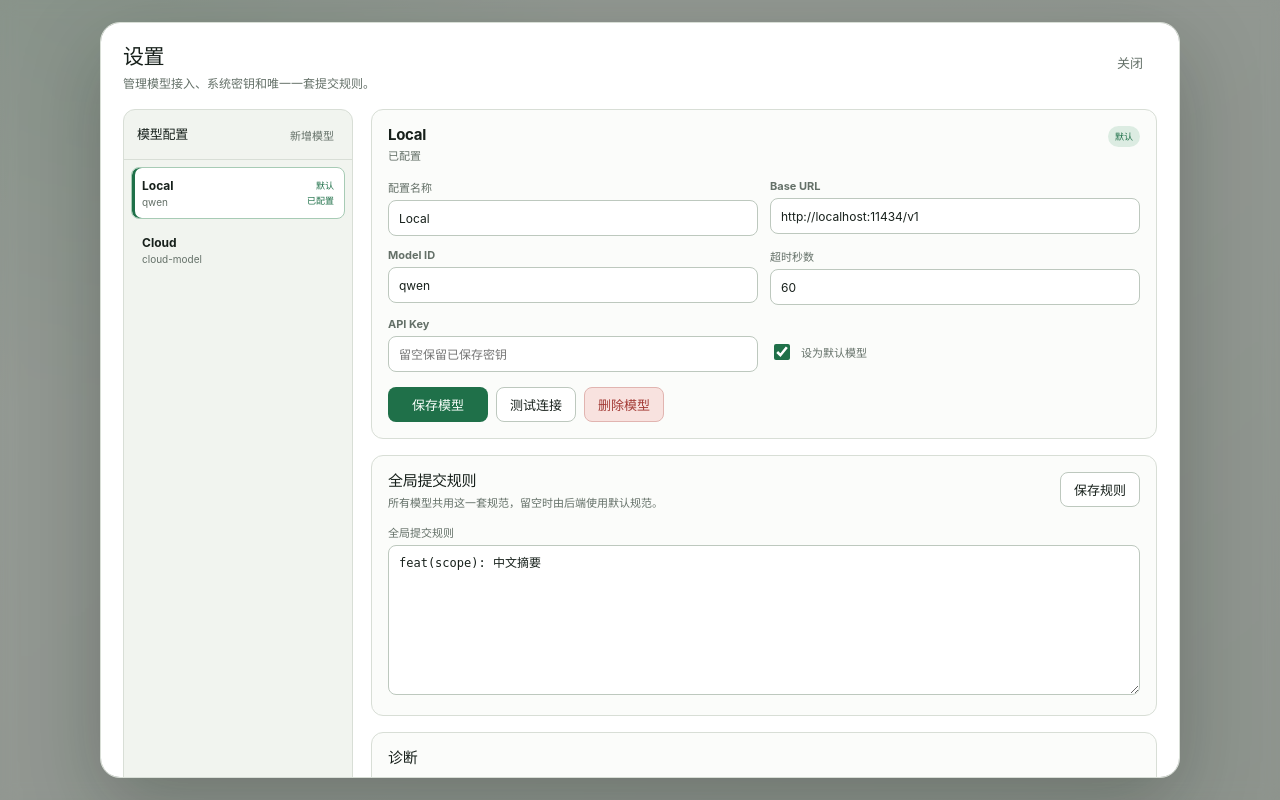
Scenario: SettingsDialog › omits a blank key when editing and clears a replacement after save
The image size is (1280, 800).
Click the button with aria-label "编辑 Local" at (238, 193), box [131, 167, 345, 219]
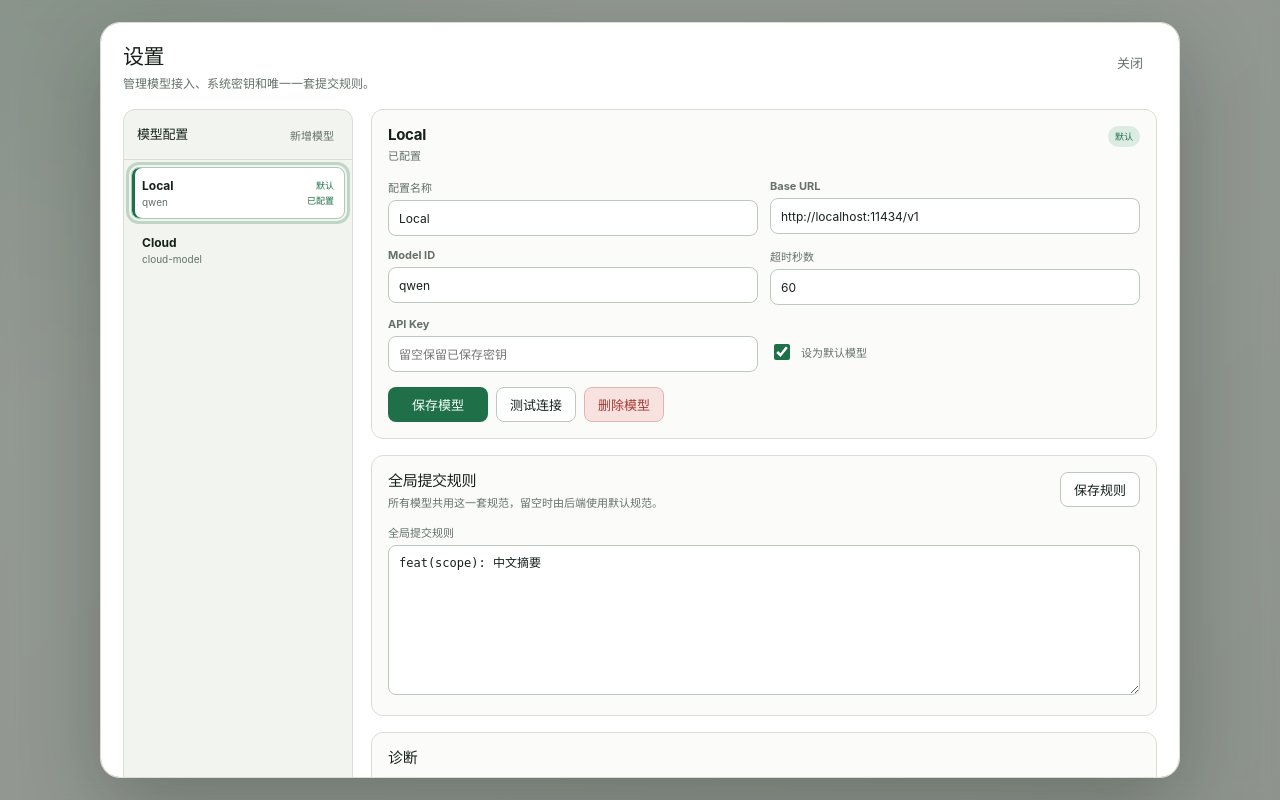
Replace the text in the field labelled "配置名称" with "Local Renamed" at (573, 218), box [388, 200, 758, 236]
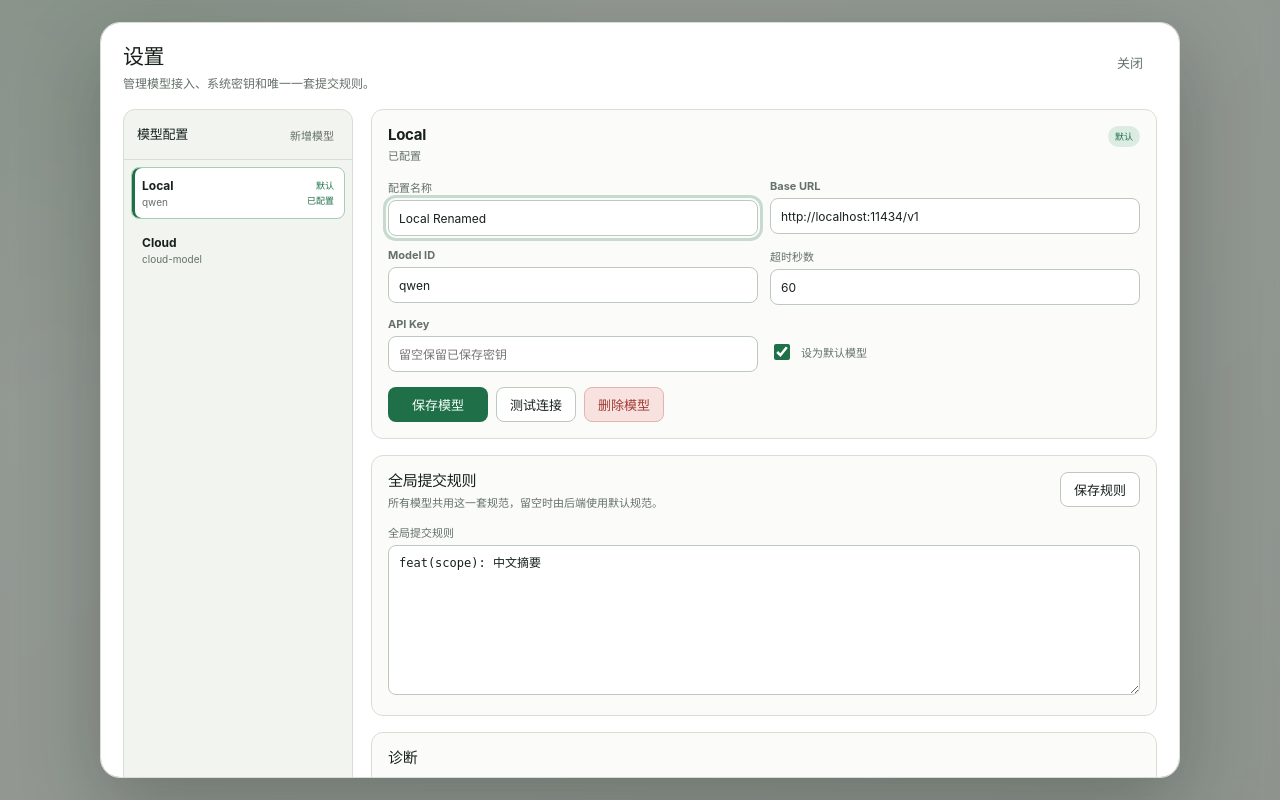
Click the button "保存模型" at (438, 405), box [388, 387, 488, 422]
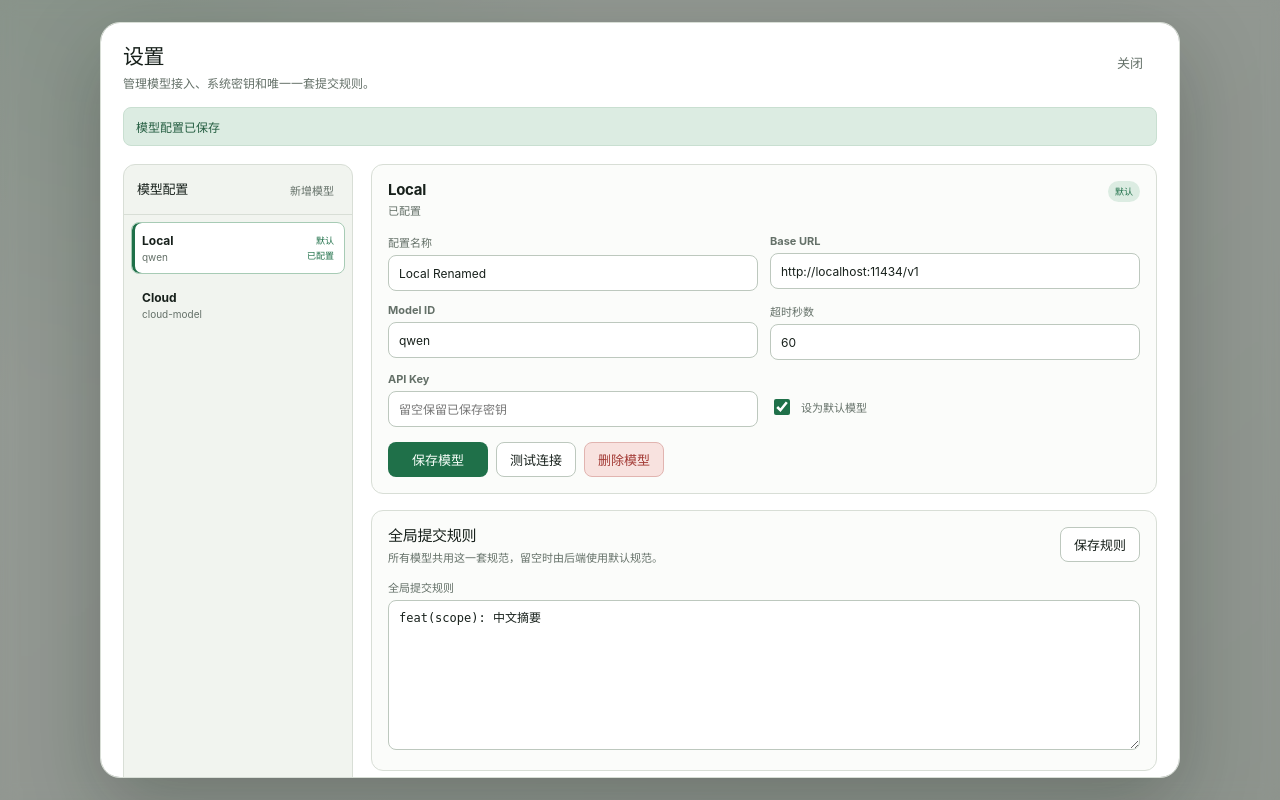
Expected: the password field labelled "API Key" is empty, [388, 391, 758, 427]
Click the button with aria-label "编辑 Cloud" at (238, 305), box [131, 279, 345, 331]
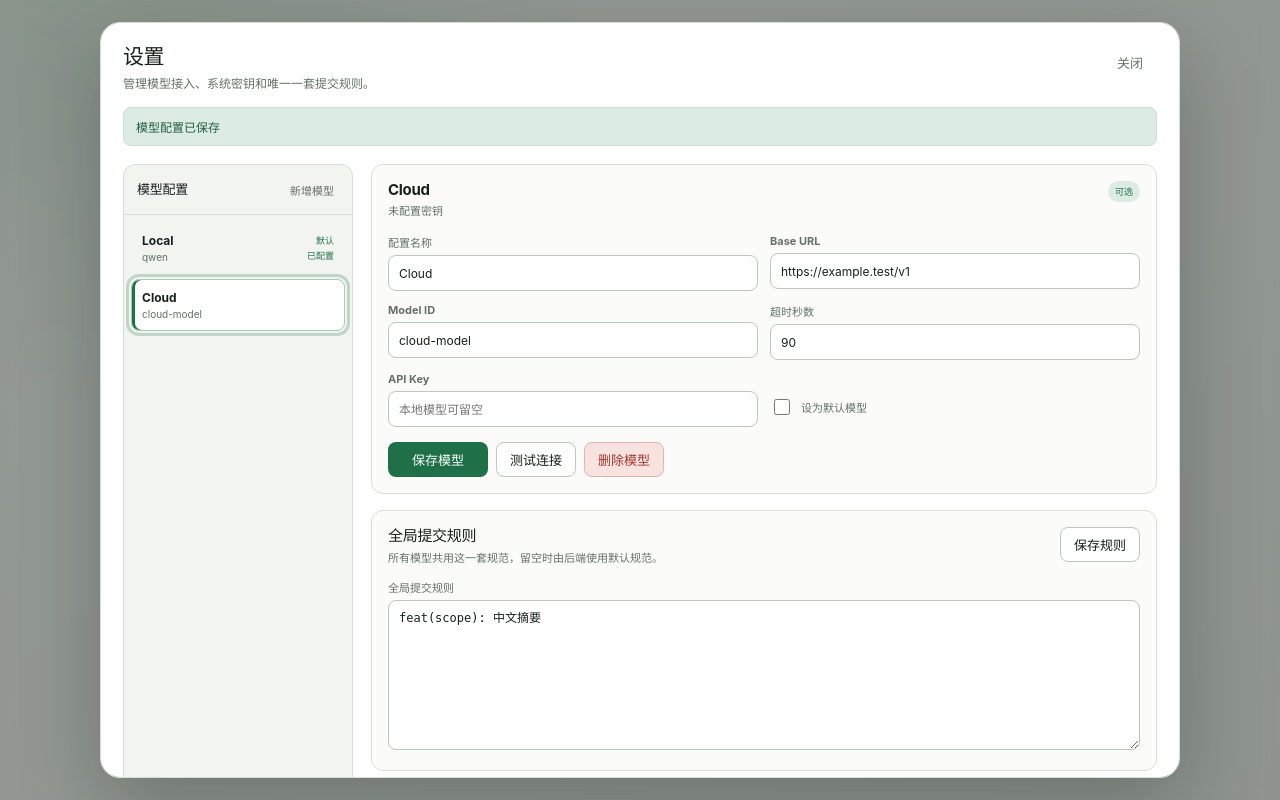
Type "replacement" into the password field labelled "API Key" at (573, 409), box [388, 391, 758, 427]
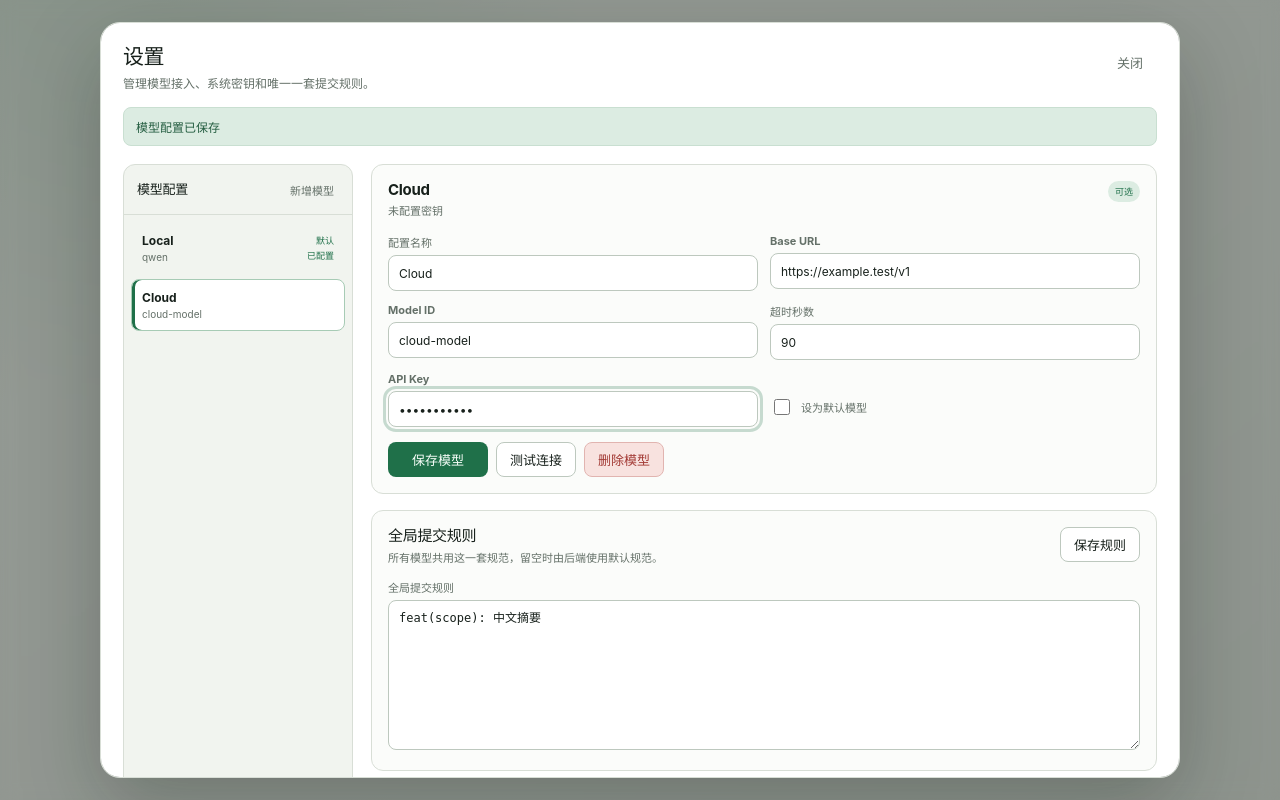
Click the button "保存模型" at (438, 460), box [388, 442, 488, 477]
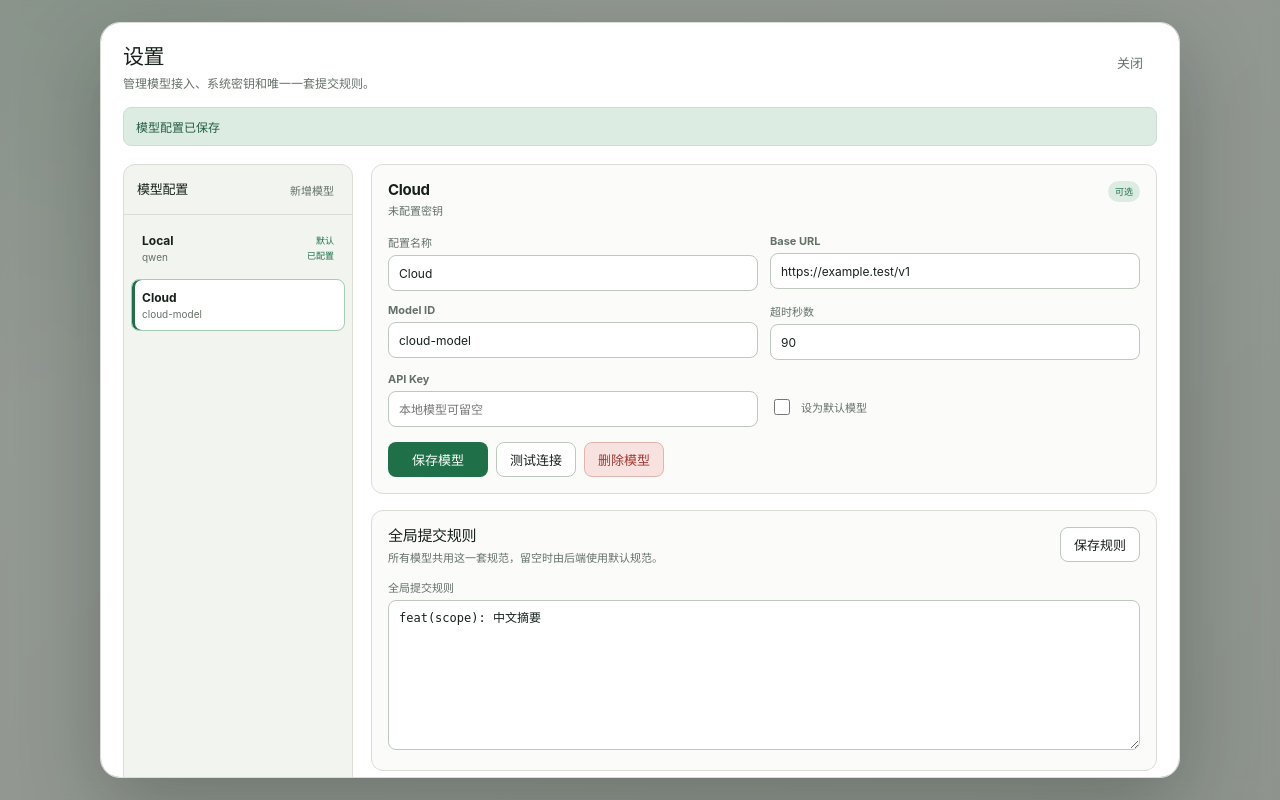
Result: the password field labelled "API Key" is empty at [388, 391, 758, 427]
